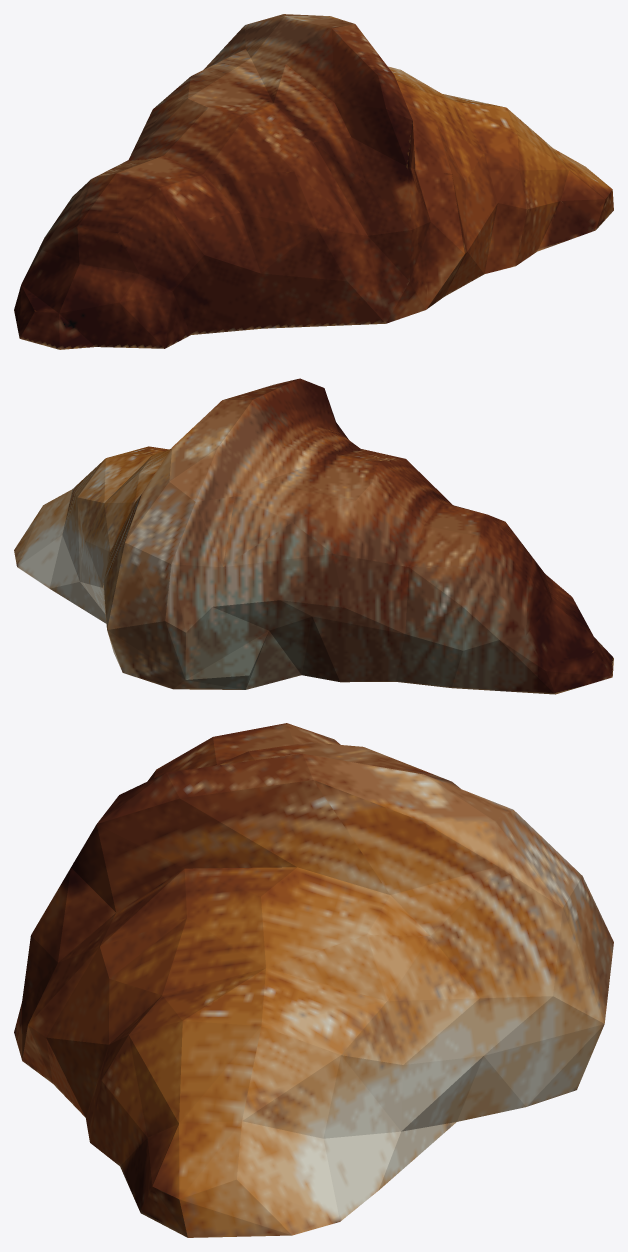
Rendered from low_poly_croissant.glb.
The picture shows the model from 3 angles, top to bottom: view 1: azimuth 30°, elevation 25°; view 2: azimuth 150°, elevation 25°; view 3: azimuth 270°, elevation 25°; orthographic projection. The views are drawn at different scales.
Parts seen in each view (by area): view 1: Object_4; view 2: Object_4; view 3: Object_4.
Boxes of the visible parts, <box> form: Object_4: <box>14,14,613,349</box>; Object_4: <box>14,378,613,694</box>; Object_4: <box>14,723,613,1237</box>.
Size of the model in its own units: 0.1798 by 0.0632 by 0.1104.
1 material, 1 textured.
